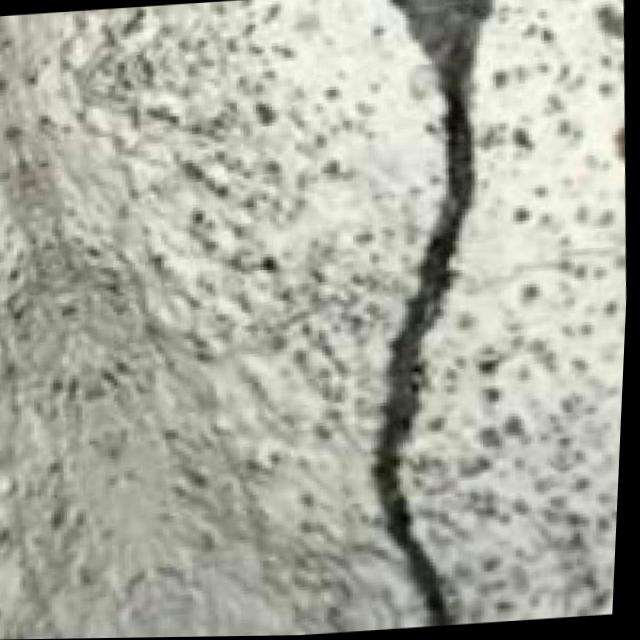Crack: (301, 0, 558, 634)
